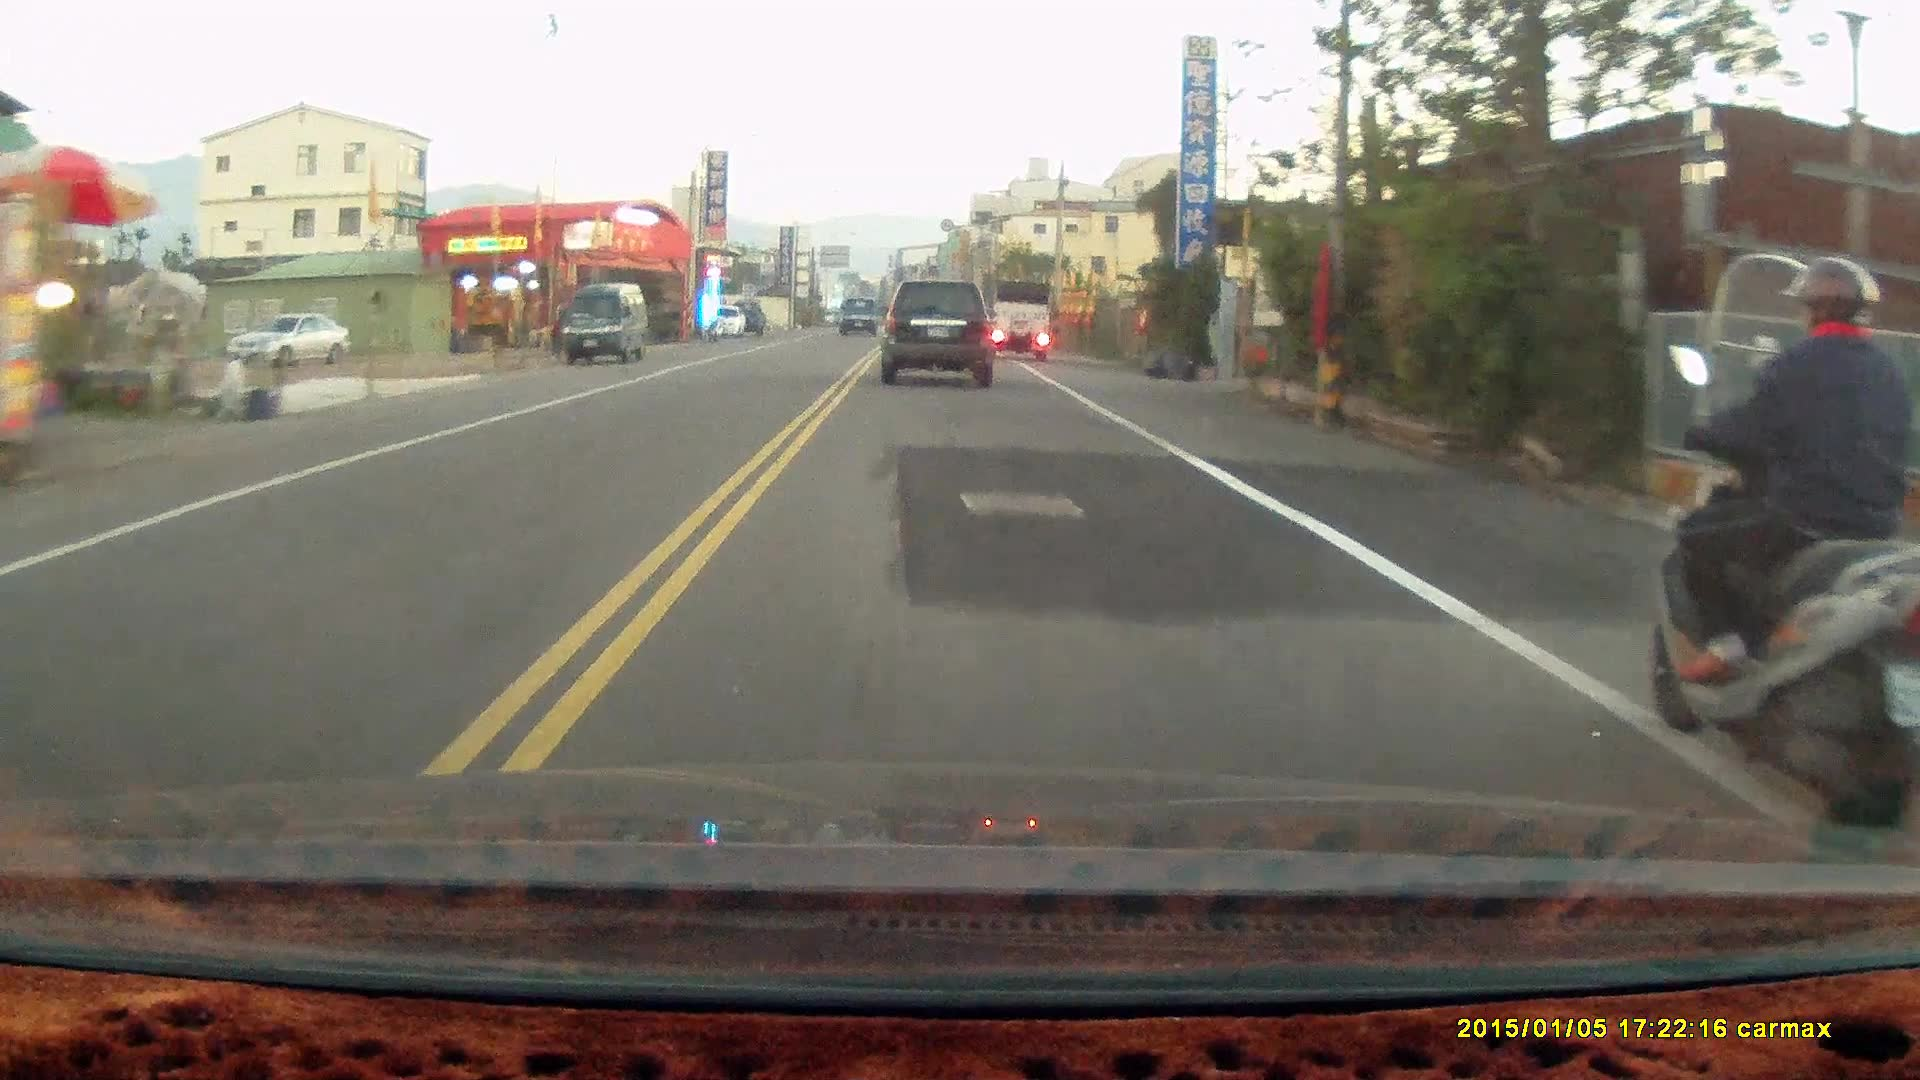rider: (1644, 251, 1919, 826)
vehicle: (879, 278, 1001, 387), (561, 283, 648, 364), (225, 317, 350, 369), (988, 275, 1056, 361)
